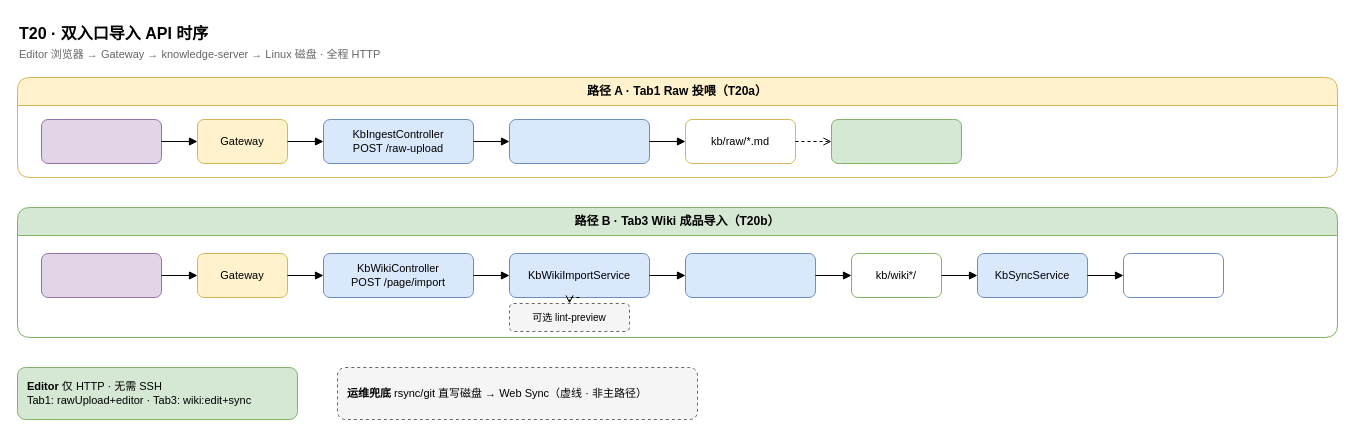
The diagram is 1355 pixels wide and 437 high, and some of its shapes have lost their labels. The shapes that lost their labels are listed below. From the top down, each one's centre as x and y in pixels, then its label:
the point at 101,141: KbRawUploadPanel
the point at 579,141: KbRawUploadService
the point at 896,141: Tab2 Ingest → Sync
the point at 101,275: KbWikiImportPanel
the point at 750,275: KbWikiFileService
the point at 1173,275: kb_document
